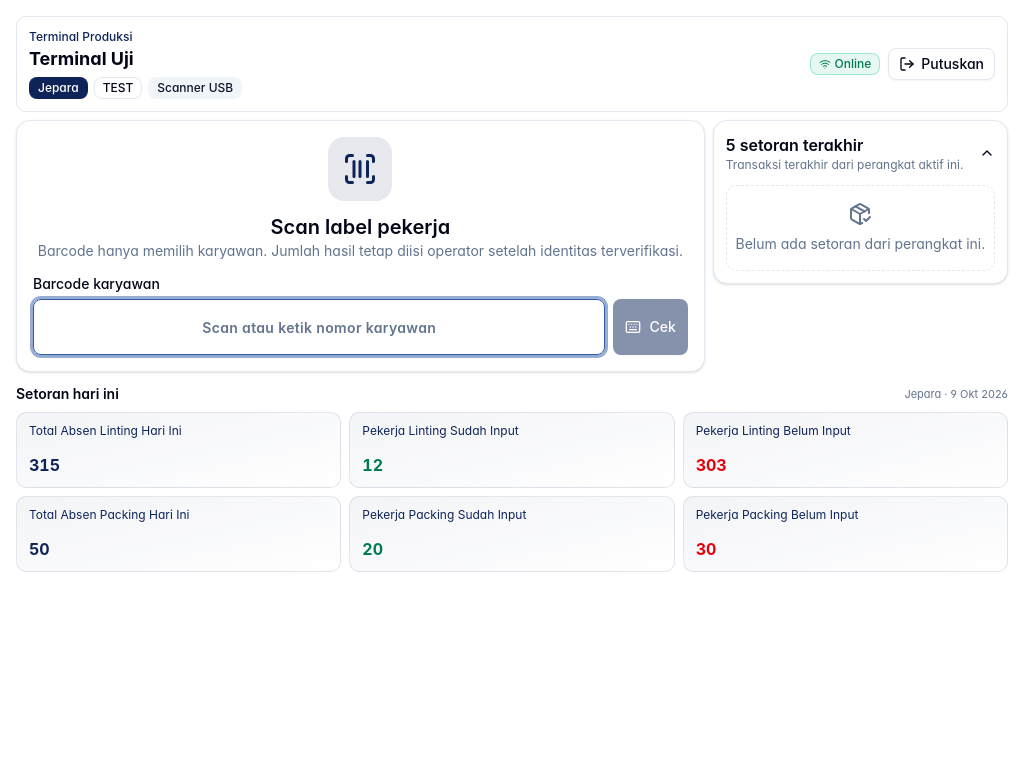
it: compact production deposit form › retains scanner activation unless explicitly invalid: 401 DEVICE_SESSION_INVALID
Type "TEST-001" into the field labelled "Barcode karyawan" at (319, 327), box [33,299,606,355]
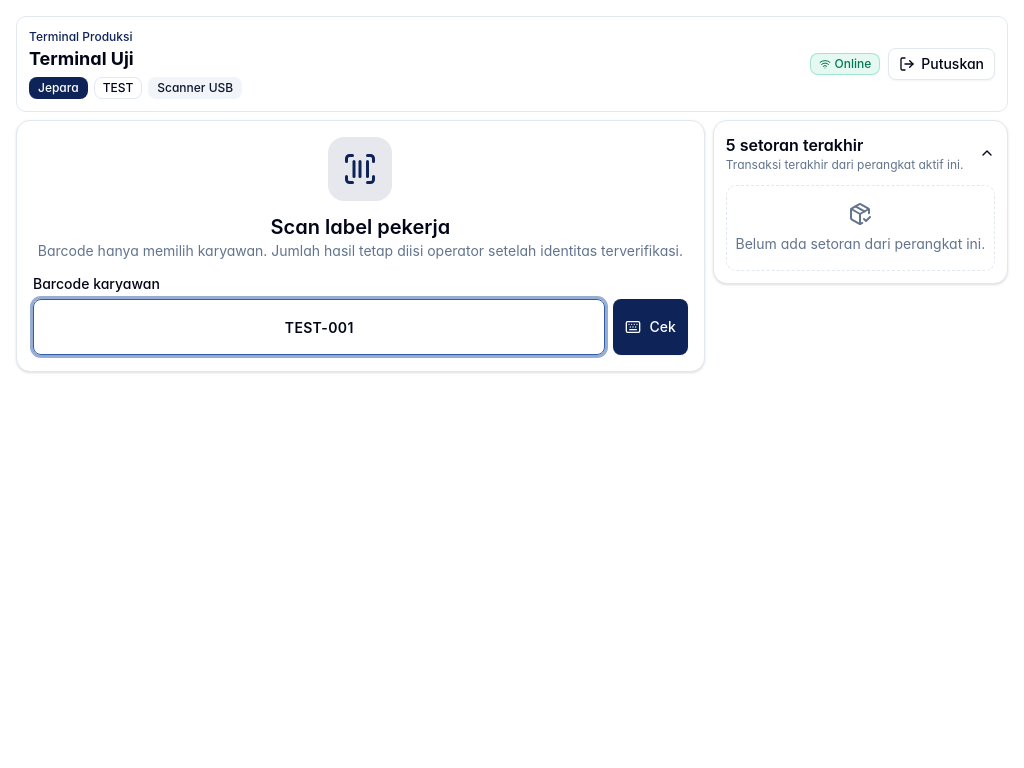
Click the button "Cek" at (651, 327), box [614,299,688,355]
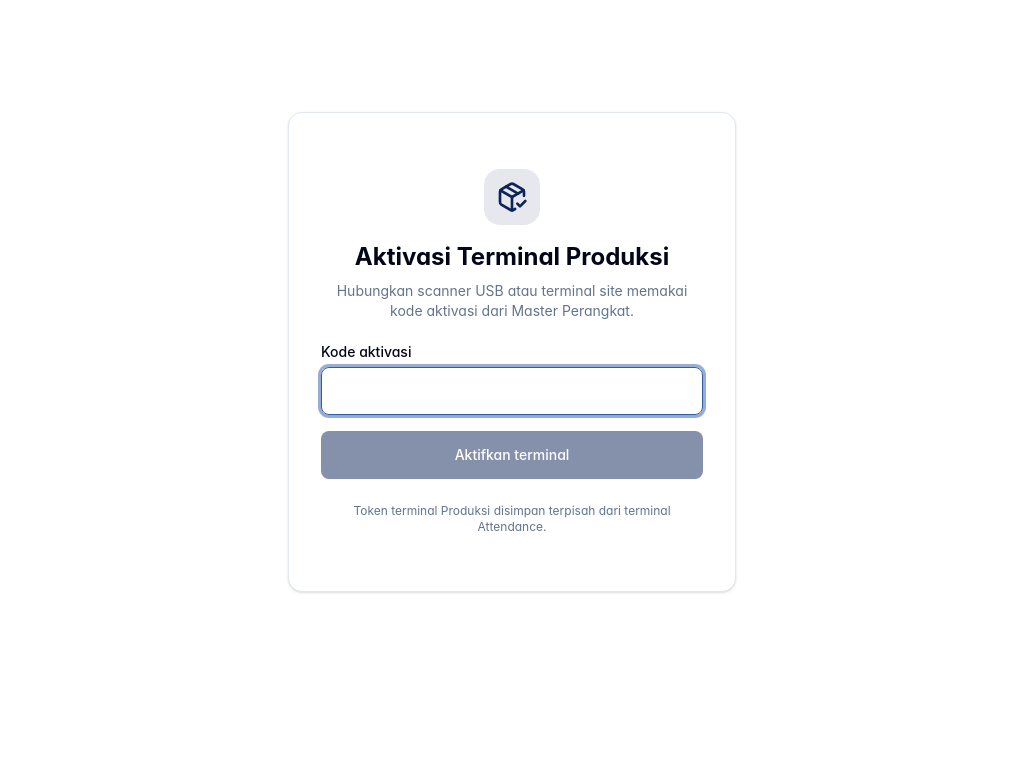
Expected: the field labelled "Kode aktivasi" is shown, [321,367,703,415]
